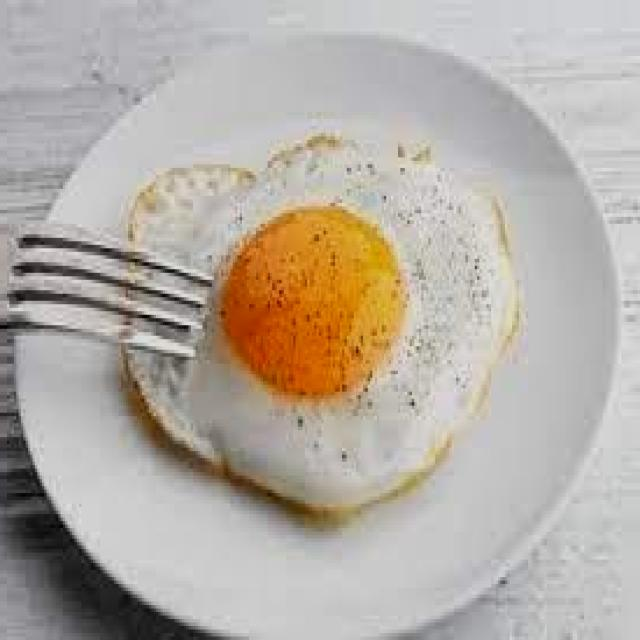omelette: (88, 63, 554, 525)
